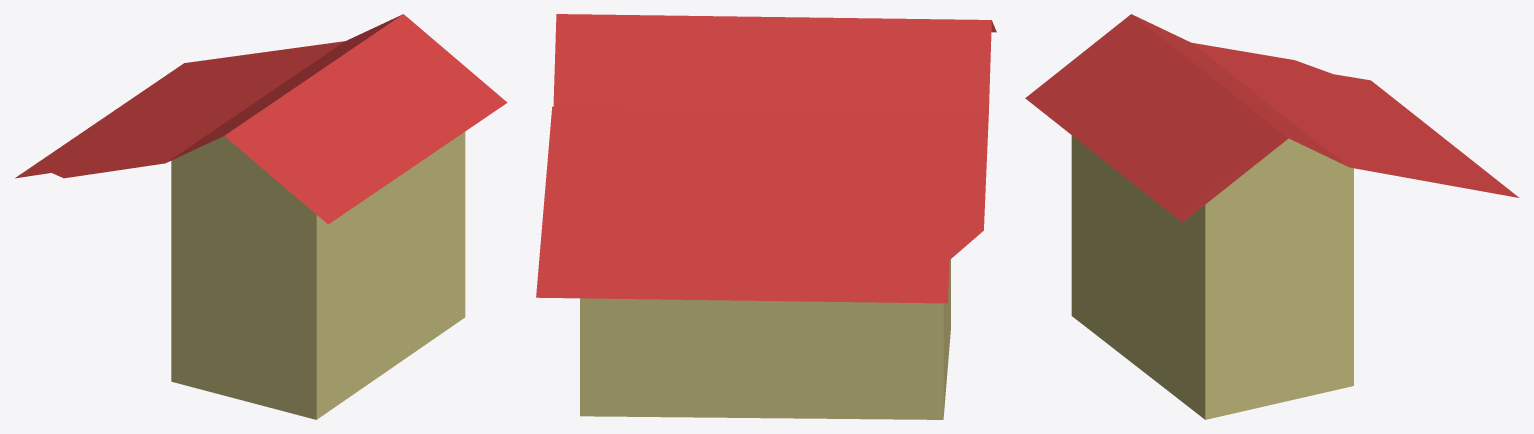
3 views of the same model, side by side, from view 1: azimuth 30°, elevation 25°; view 2: azimuth 150°, elevation 25°; view 3: azimuth 270°, elevation 25° (orthographic). The views are drawn at different scales.
Bounding box in the file's own units: 16.07 × 17.64 × 10.71.
